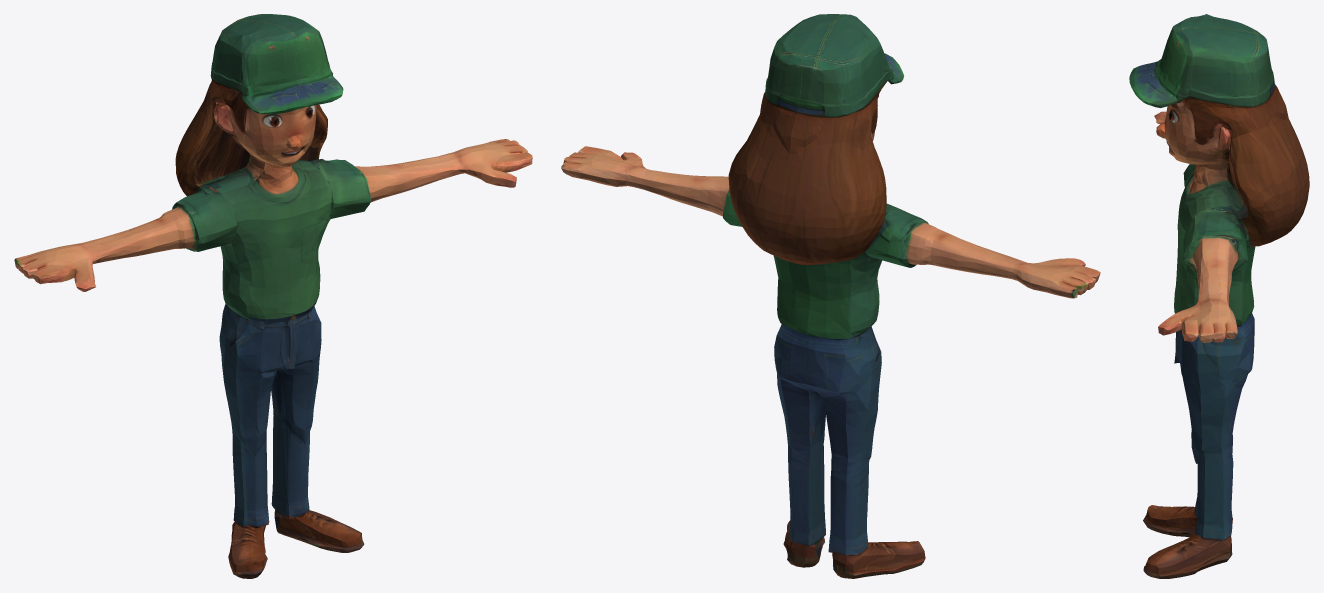
File: Alice_0422075216_texture.fbx
3 views of the same model, side by side, from view 1: azimuth 30°, elevation 25°; view 2: azimuth 150°, elevation 25°; view 3: azimuth 270°, elevation 25° (orthographic). The views are drawn at different scales.
Visible parts, largest first — view 1: temp; view 2: temp; view 3: temp.
Part boxes in pixels (x1,y1,x2,y2): temp: (14, 14, 532, 578); temp: (561, 14, 1100, 578); temp: (1129, 14, 1309, 578).
Bounding box in the file's own units: 200 × 199 × 61.81.
1 material, 1 textured.
